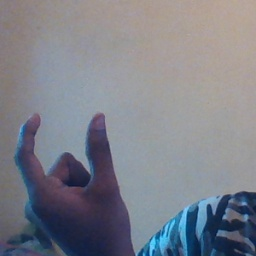U: (11, 105, 130, 246)
